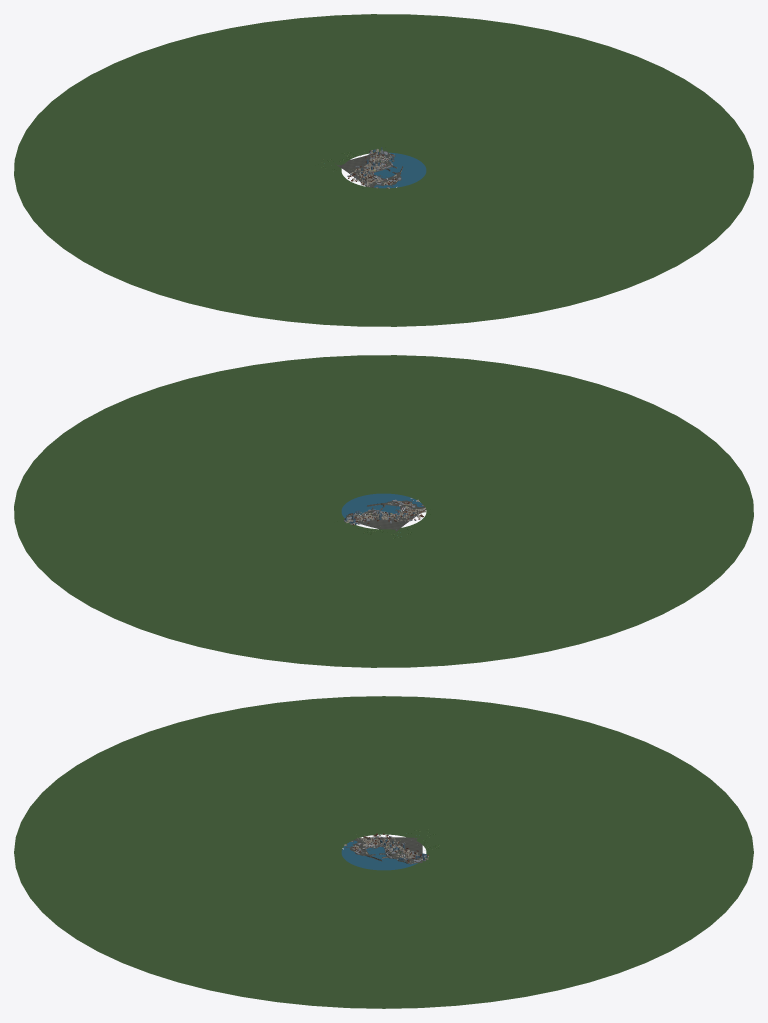
File: monte-carlo.glb
3 renders of one model, top to bottom at view 1: azimuth 30°, elevation 25°; view 2: azimuth 150°, elevation 25°; view 3: azimuth 270°, elevation 25°, orthographic.
Visible parts, largest first — view 1: RL_Circuit; view 2: RL_Circuit; view 3: RL_Circuit.
Boxes of the visible parts, x1,y1,x2,y2 form: RL_Circuit: (14,14,753,326); RL_Circuit: (14,355,753,667); RL_Circuit: (14,696,753,1008).
Size of the model in its own units: 18000 by 152 by 18000.
97 materials, 63 textured.
